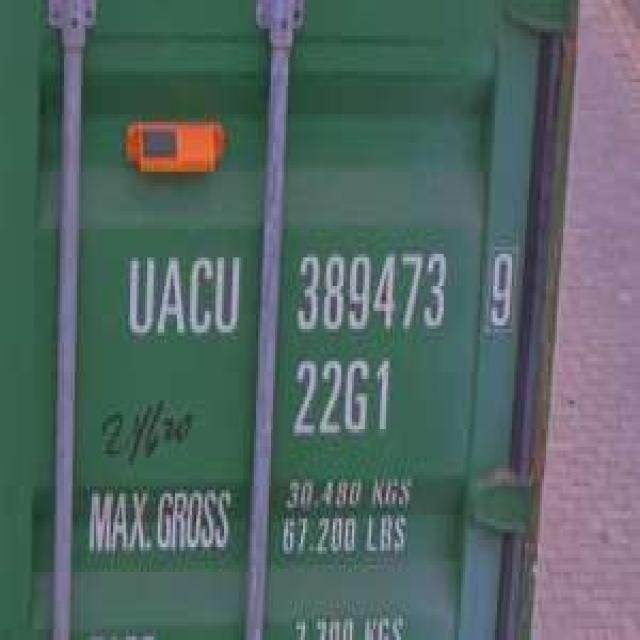dv: (484, 240, 516, 332)
owner: (120, 243, 243, 351)
serial: (288, 240, 452, 343)
size: (286, 347, 395, 443)
